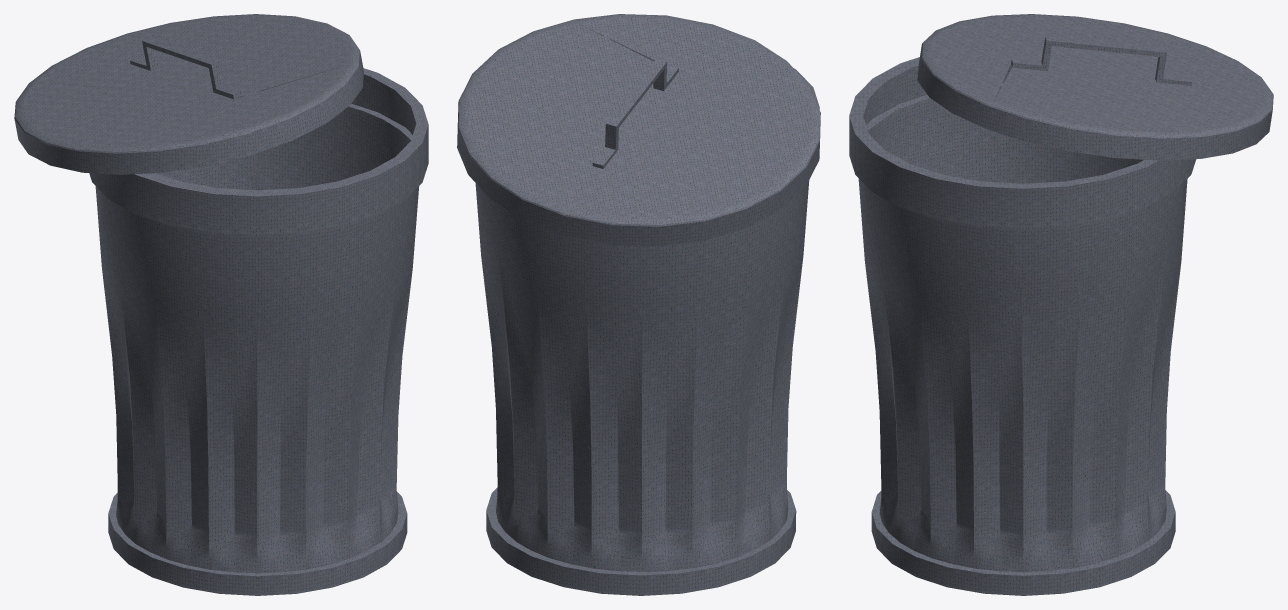
3 renders of one model, left to right at view 1: azimuth 30°, elevation 25°; view 2: azimuth 150°, elevation 25°; view 3: azimuth 270°, elevation 25°, orthographic. The views are drawn at different scales.
Parts seen in each view (by area): view 1: mesh1_mesh1-geometry, mesh2_mesh2-geometry; view 2: mesh1_mesh1-geometry, mesh2_mesh2-geometry; view 3: mesh1_mesh1-geometry, mesh2_mesh2-geometry.
Part boxes in pixels (bbox=[...]): mesh1_mesh1-geometry: bbox=[89, 68, 428, 595]; mesh2_mesh2-geometry: bbox=[14, 14, 363, 174]; mesh1_mesh1-geometry: bbox=[475, 36, 819, 595]; mesh2_mesh2-geometry: bbox=[457, 14, 820, 246]; mesh1_mesh1-geometry: bbox=[849, 57, 1195, 595]; mesh2_mesh2-geometry: bbox=[917, 14, 1273, 160].
Size of the model in its own units: 0.5001 by 0.6748 by 0.5427.
